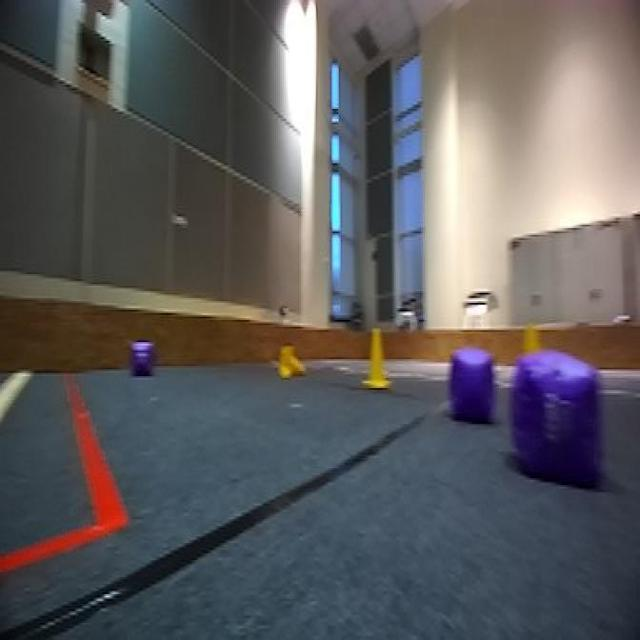frc_cone: (361, 325, 391, 392), (276, 344, 305, 378)
frc_cube: (508, 349, 606, 488), (446, 342, 501, 421), (128, 339, 156, 383)
